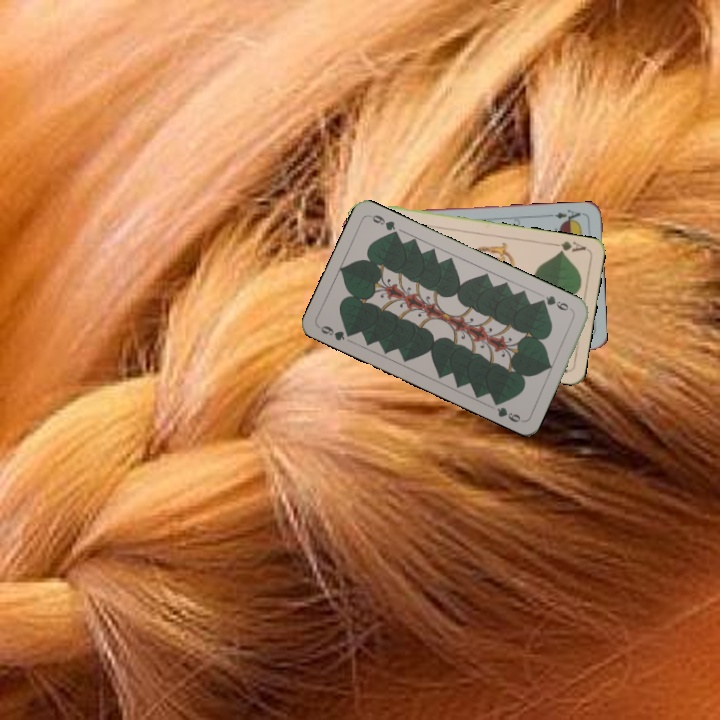EA: (546, 205, 586, 225)
G9: (535, 292, 576, 314), (315, 321, 356, 343)
GA: (549, 237, 588, 256)
